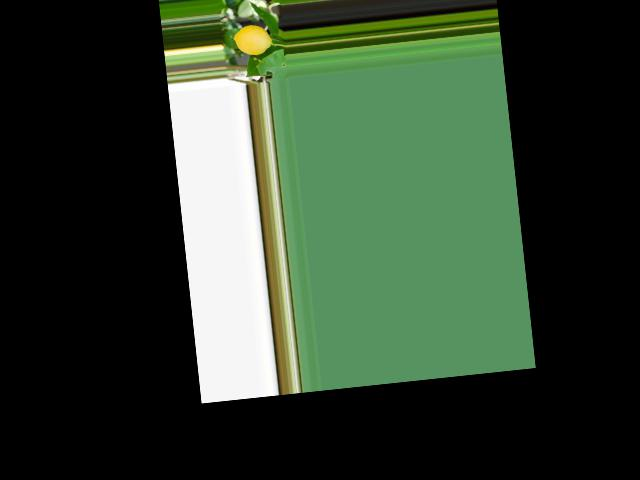lemon: (227, 19, 274, 57)
